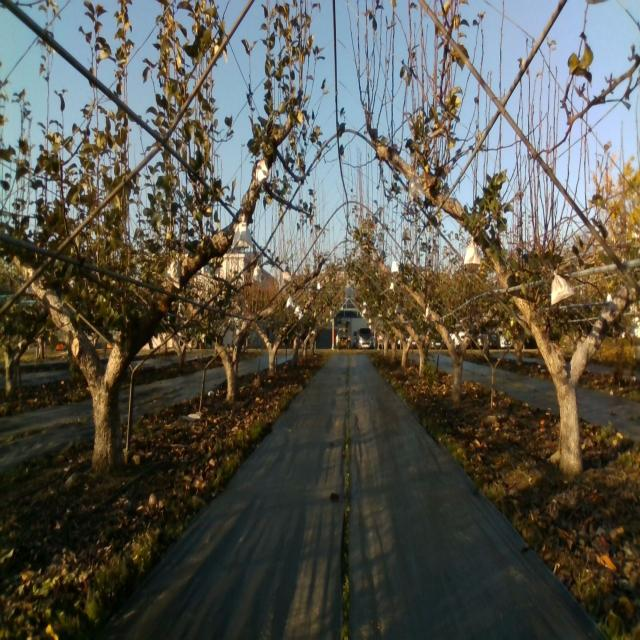pearbags: (551, 268, 574, 306), (231, 211, 253, 250), (162, 251, 182, 289), (464, 236, 481, 266), (254, 155, 269, 187), (408, 175, 425, 201)
